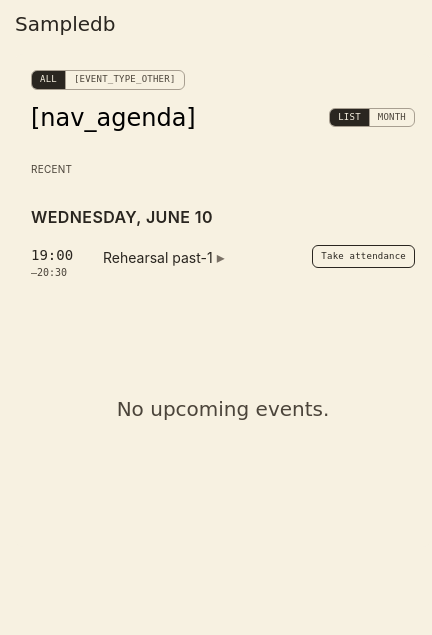
Test: +page — the saved cue fires on reconcile, per (event, member) (#327) › a successful write puts the saved announcement on THAT member's row — and the reconciled value stays pressed
Click the button "Take attendance": (364,256) [312,244,415,268]
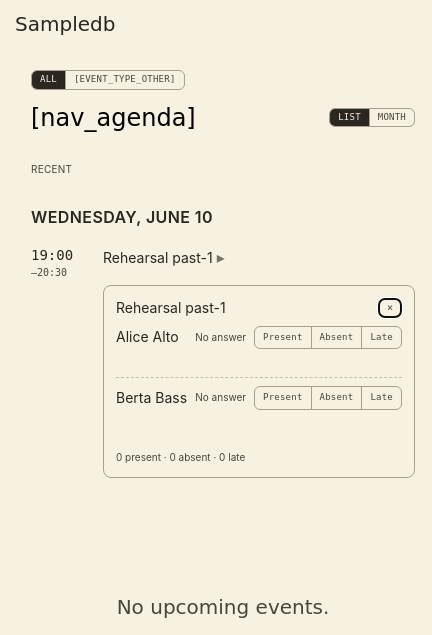
Click the button "Present" in the row of "Alice Alto": (283,337) [255,326,312,348]
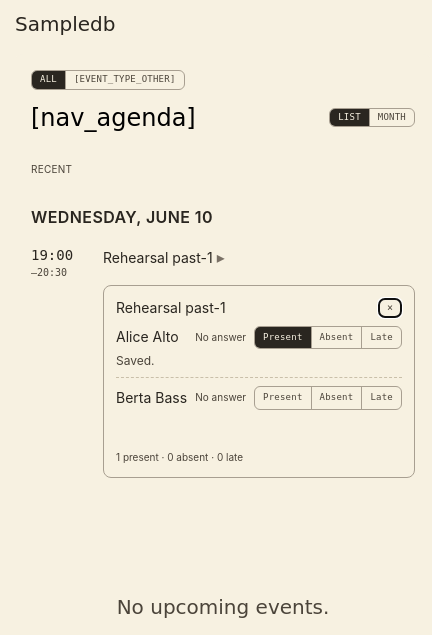
Result: the message "Saved." is shown at [116,353,155,368]
